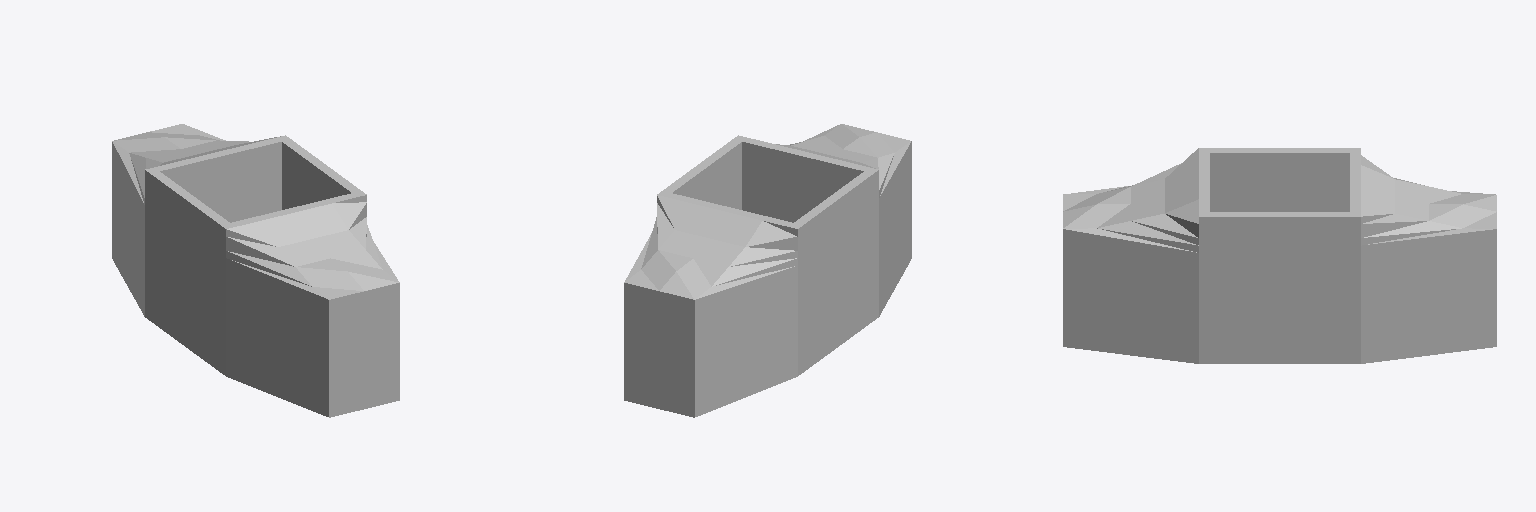
Rendered from train.obj.
3 views of the same model, side by side, from view 1: azimuth 30°, elevation 25°; view 2: azimuth 150°, elevation 25°; view 3: azimuth 270°, elevation 25° (orthographic).
Parts seen in each view (by area): view 1: Cube.001, Cube.003, Cube.002; view 2: Cube.002, Cube.003, Cube.001; view 3: Cube.003, Cube.001, Cube.002.
Part boxes in pixels (x1,y1,x2,y2): Cube.001: (226, 195, 399, 417); Cube.003: (145, 135, 366, 375); Cube.002: (112, 124, 280, 316); Cube.002: (624, 195, 797, 417); Cube.003: (657, 135, 878, 375); Cube.001: (755, 124, 911, 316); Cube.003: (1199, 148, 1360, 363); Cube.001: (1063, 148, 1198, 363); Cube.002: (1361, 155, 1496, 363).
Bounding box in the file's own units: 2.5 × 2.5 × 6.67.